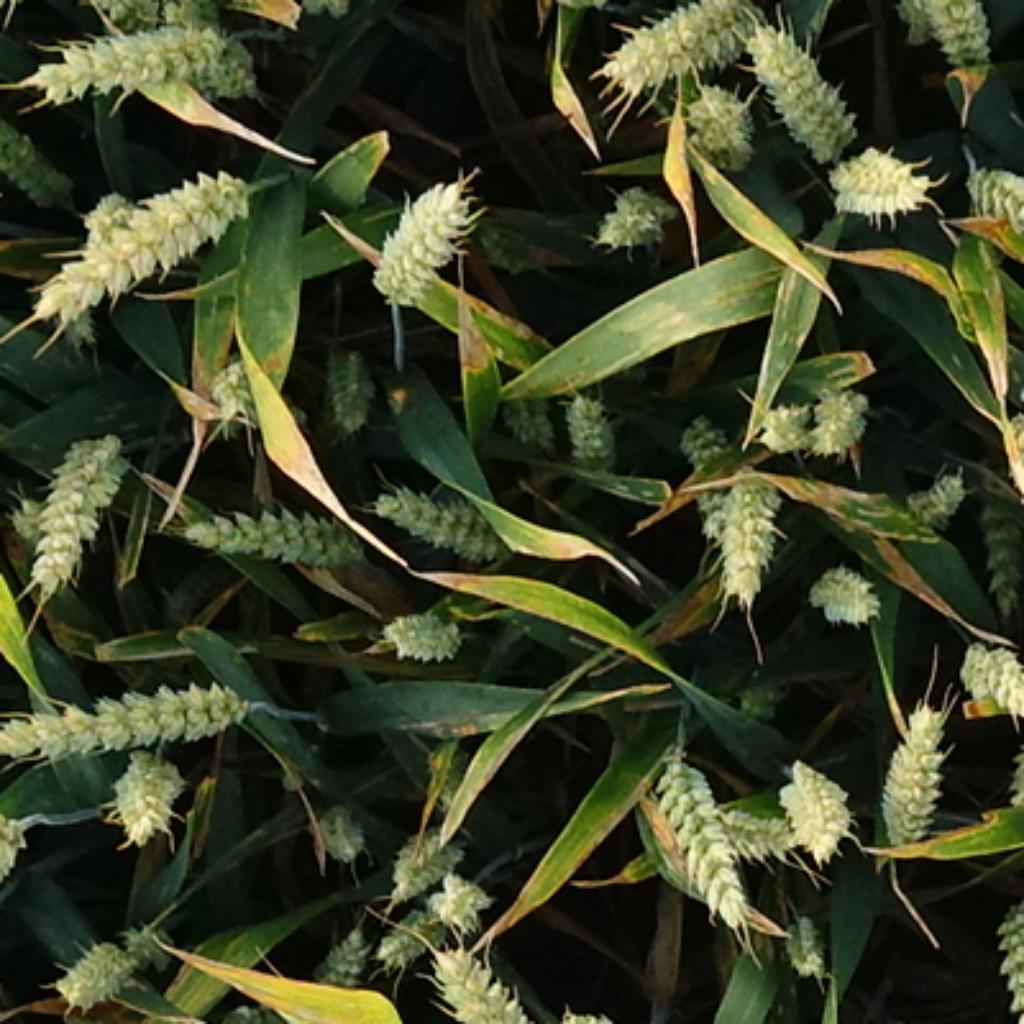0-0: (38, 176, 250, 345), (629, 744, 765, 916), (17, 419, 138, 586), (1, 683, 248, 759), (28, 15, 232, 107), (744, 12, 865, 151), (174, 486, 376, 568), (360, 163, 478, 302), (596, 2, 768, 87), (371, 465, 517, 555), (870, 691, 952, 844), (693, 460, 785, 588), (430, 936, 563, 1024), (821, 130, 931, 212), (775, 747, 855, 852), (683, 806, 804, 871), (104, 739, 186, 834), (960, 145, 1024, 258), (2, 107, 76, 204), (54, 927, 146, 1003), (975, 483, 1024, 622), (593, 168, 680, 245), (952, 624, 1024, 714), (678, 74, 755, 158), (378, 591, 468, 657), (324, 350, 388, 442), (191, 355, 265, 430), (673, 404, 755, 471), (801, 371, 870, 450), (558, 381, 622, 465), (803, 550, 880, 619), (386, 823, 459, 893), (919, 2, 998, 64), (898, 460, 967, 524), (307, 916, 373, 980), (309, 800, 370, 869), (784, 919, 841, 990), (376, 901, 440, 962), (424, 862, 488, 921), (74, 2, 171, 40), (752, 391, 814, 448), (84, 189, 145, 245), (2, 486, 56, 547), (2, 806, 40, 880), (506, 395, 550, 448)
